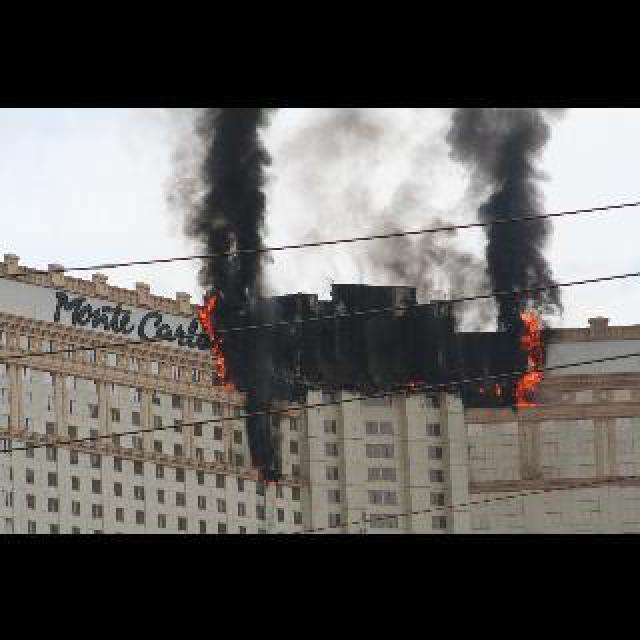Fire: (196, 278, 232, 398), (514, 298, 546, 404)
Smoke: (440, 106, 572, 320), (286, 106, 438, 290), (174, 106, 270, 294), (230, 300, 284, 466)
